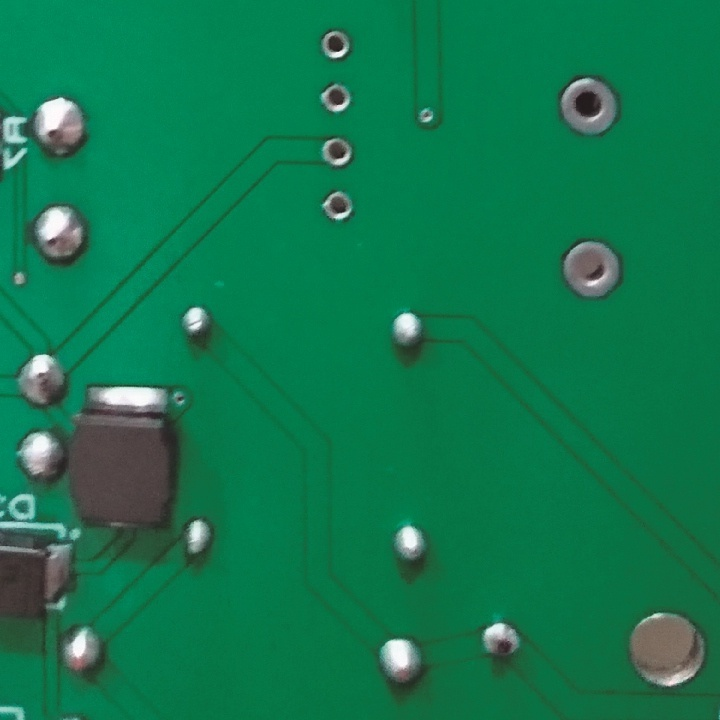F: (556, 230, 627, 304), (553, 72, 625, 142), (319, 186, 361, 226), (316, 26, 353, 63), (319, 134, 356, 171), (316, 81, 356, 115)
